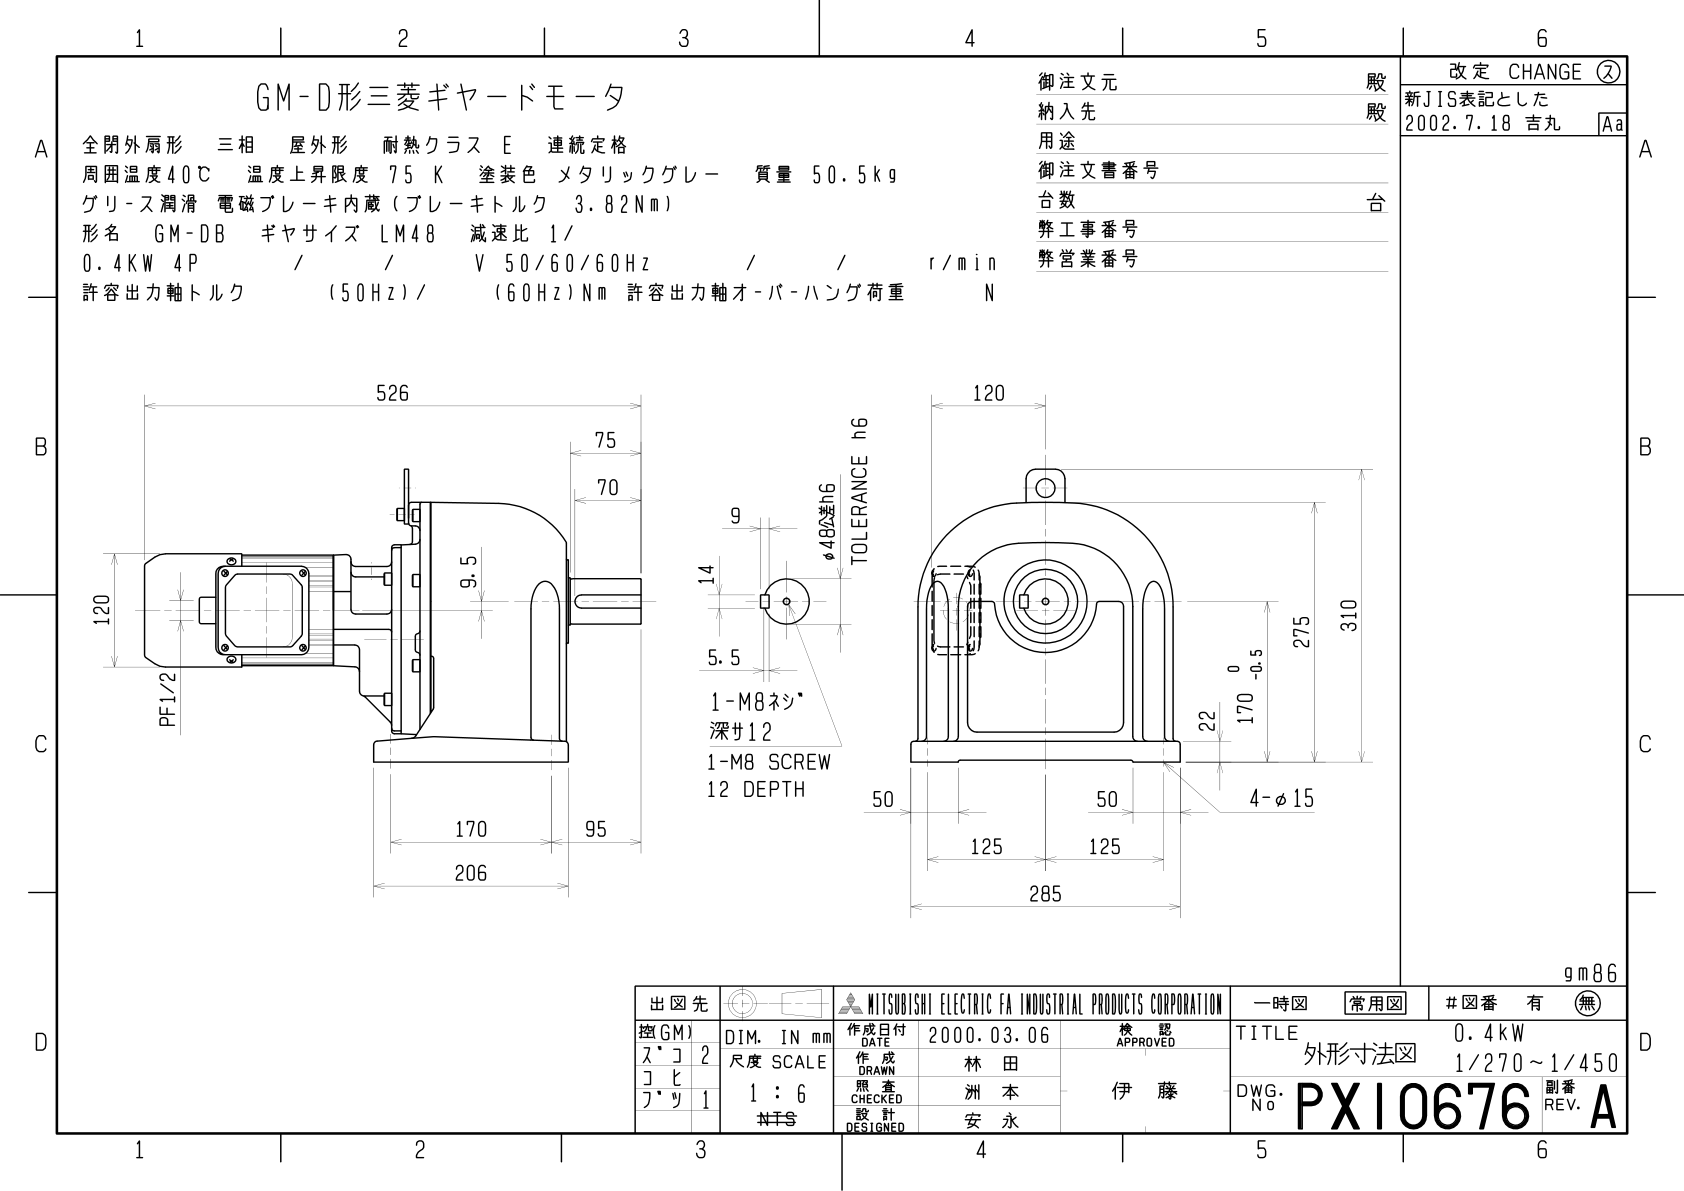GM_D_屋外＿三相_脚: (73, 347, 1386, 945)
